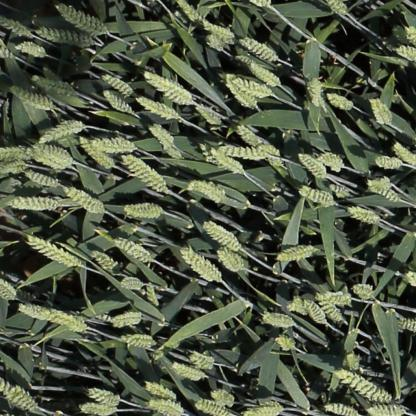whd: (333, 368, 391, 403), (18, 304, 86, 332), (175, 245, 222, 284), (120, 154, 167, 193), (55, 3, 110, 36), (26, 236, 80, 268), (142, 69, 196, 98), (200, 217, 242, 252), (0, 375, 41, 410), (37, 25, 97, 48), (28, 142, 76, 170), (76, 135, 114, 170), (38, 120, 86, 145), (62, 186, 106, 212), (224, 75, 257, 109), (136, 96, 184, 119), (156, 79, 196, 106), (5, 194, 59, 214), (114, 236, 153, 262), (217, 142, 270, 161), (187, 179, 227, 204), (208, 148, 245, 175), (9, 86, 53, 108), (298, 184, 337, 208), (239, 36, 277, 60), (88, 136, 138, 154), (233, 122, 270, 146), (200, 20, 235, 45), (196, 142, 227, 170), (0, 15, 36, 39), (276, 243, 321, 262), (297, 152, 327, 180), (231, 79, 272, 99), (216, 246, 247, 272), (369, 94, 394, 126), (315, 287, 356, 306), (102, 89, 133, 114), (89, 251, 121, 275), (100, 73, 133, 96), (148, 339, 181, 362), (249, 62, 280, 86), (84, 386, 123, 405), (123, 201, 164, 219), (314, 150, 346, 173), (258, 140, 284, 168), (302, 298, 328, 326), (170, 362, 208, 381), (146, 398, 186, 416), (31, 76, 73, 93), (0, 144, 36, 163), (308, 74, 327, 110), (194, 397, 230, 416), (147, 124, 174, 149), (143, 380, 176, 400), (22, 168, 58, 186), (346, 206, 382, 224), (260, 311, 296, 329), (241, 402, 287, 416), (392, 142, 416, 168), (119, 331, 158, 347), (175, 1, 202, 24), (318, 301, 346, 323), (284, 292, 308, 317), (78, 401, 118, 416), (109, 311, 144, 328), (365, 403, 409, 416), (194, 104, 221, 125), (322, 402, 362, 416), (369, 184, 398, 203), (14, 42, 48, 58), (209, 388, 236, 408), (188, 350, 215, 370), (325, 93, 354, 111), (352, 283, 378, 301), (16, 286, 39, 306), (274, 333, 298, 352), (374, 156, 406, 170), (203, 30, 224, 51), (394, 43, 416, 63), (0, 160, 29, 175), (0, 277, 18, 301), (392, 27, 416, 45), (329, 182, 353, 200), (396, 315, 416, 335), (118, 277, 144, 291), (143, 282, 158, 306), (342, 353, 362, 371), (326, 0, 348, 16), (367, 176, 391, 188), (163, 146, 181, 160)
